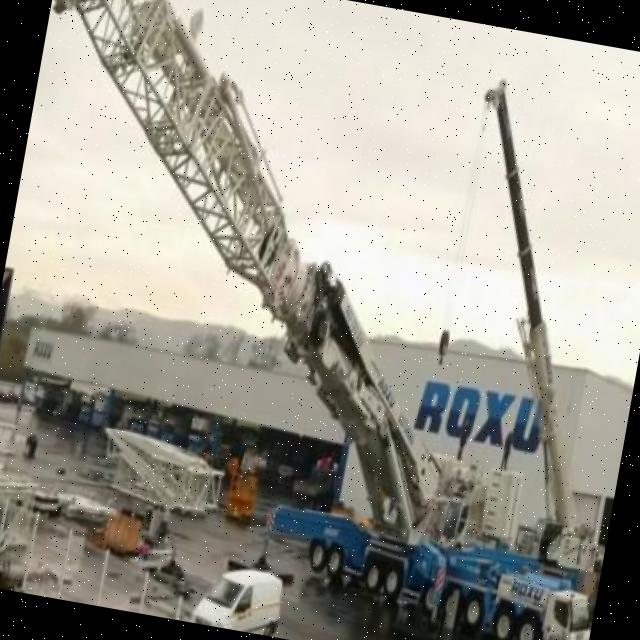Mobile Crane: (0, 0, 640, 640), (398, 62, 640, 600)
